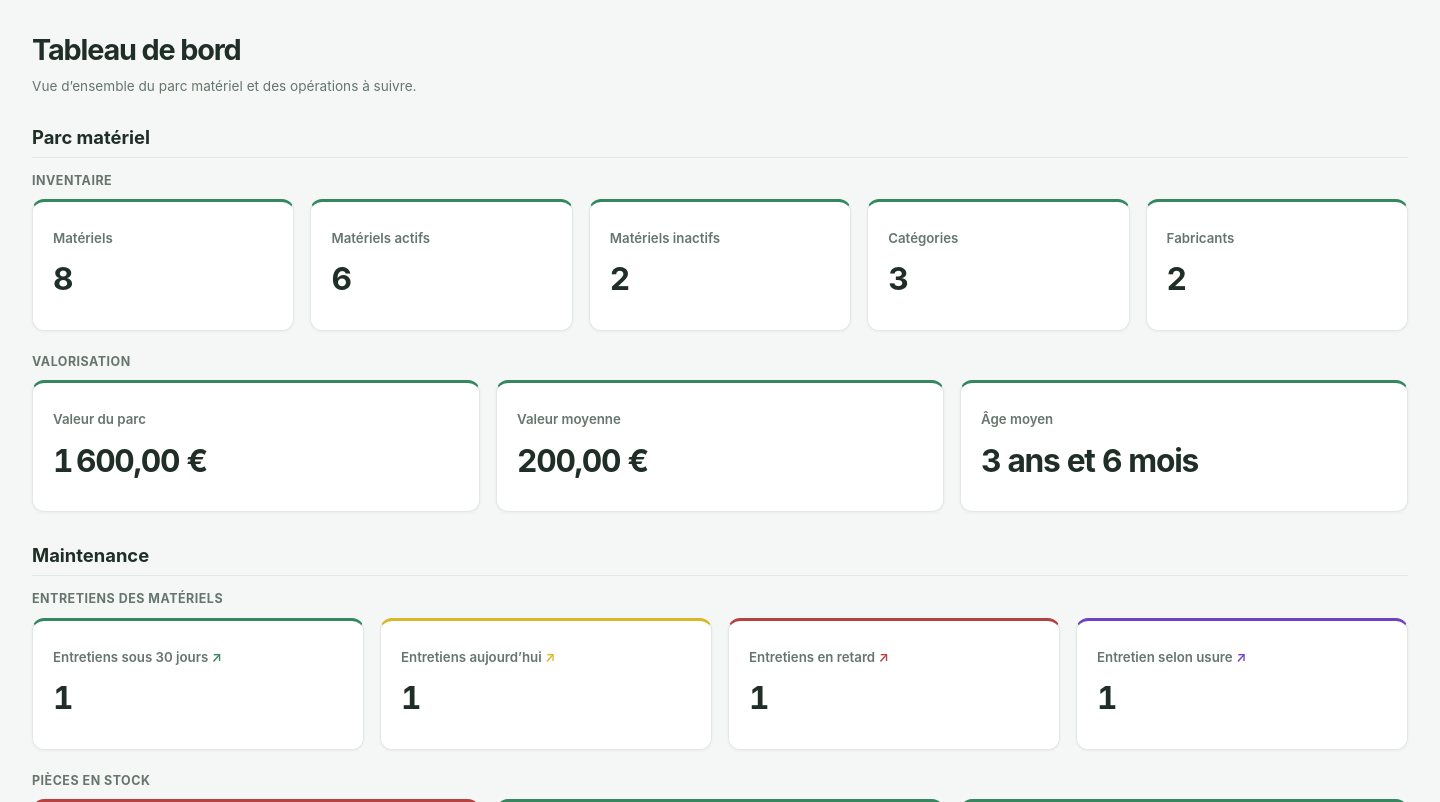
it: DashboardPage › opens the list matching the "Entretiens sous 30 jours" counter
The image size is (1440, 802).
Click the button "Entretiens sous 30 jours 1" at (131, 657), box [33,621,363,749]
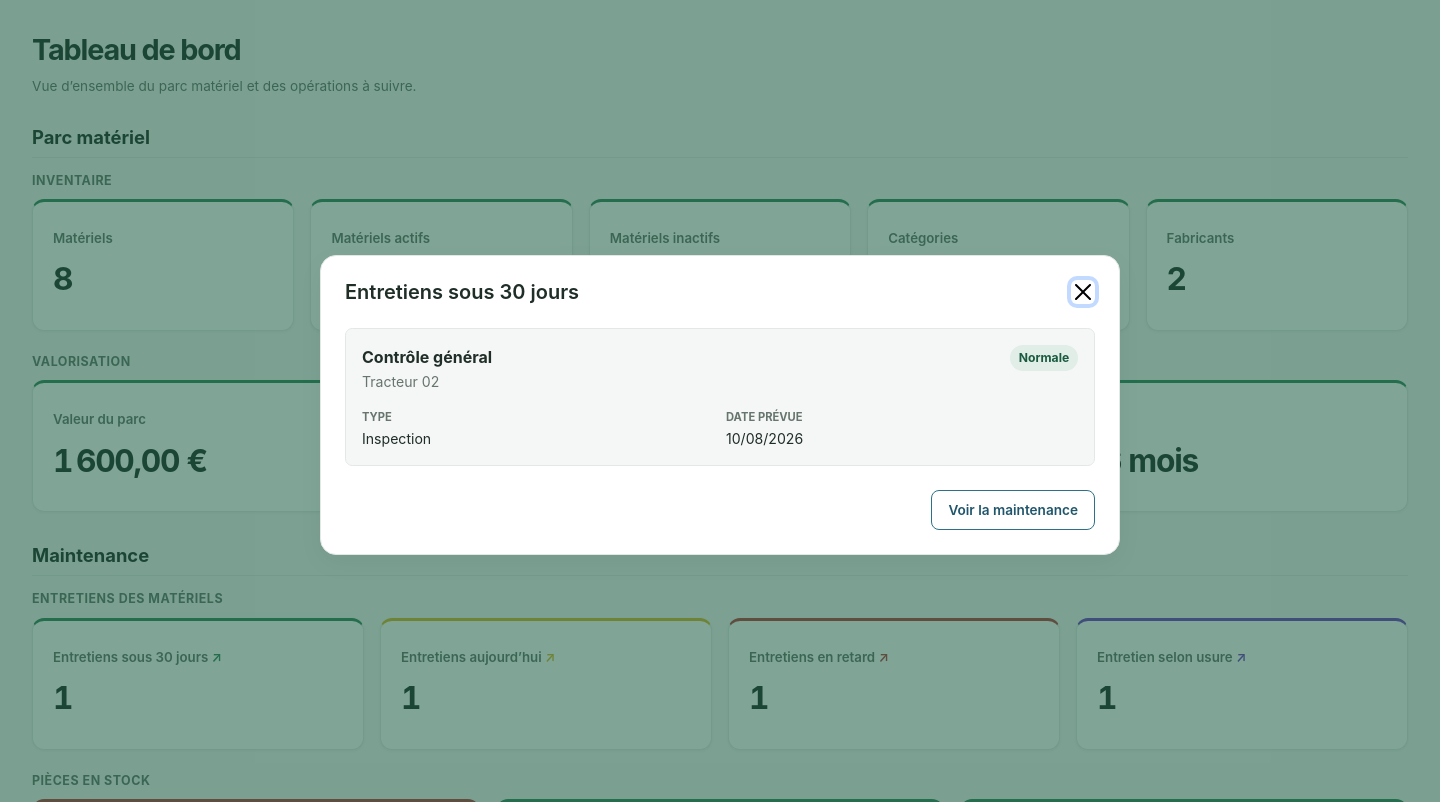
Check: the text "Contrôle général" is shown, box [362,345,492,369]
Check: the text "Tracteur 02" is shown, box [362,373,439,390]
